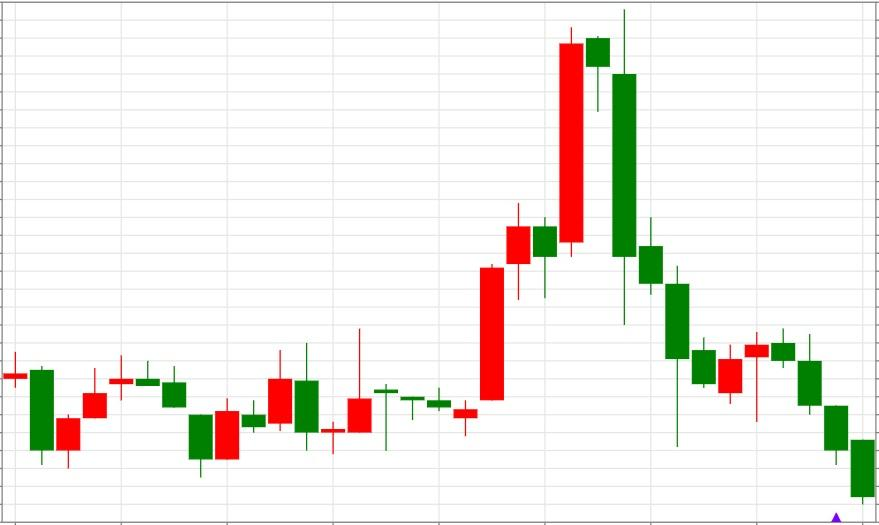hanging_man_fall: (452, 26, 611, 436)
three_black_crows_fall: (718, 327, 850, 464)
